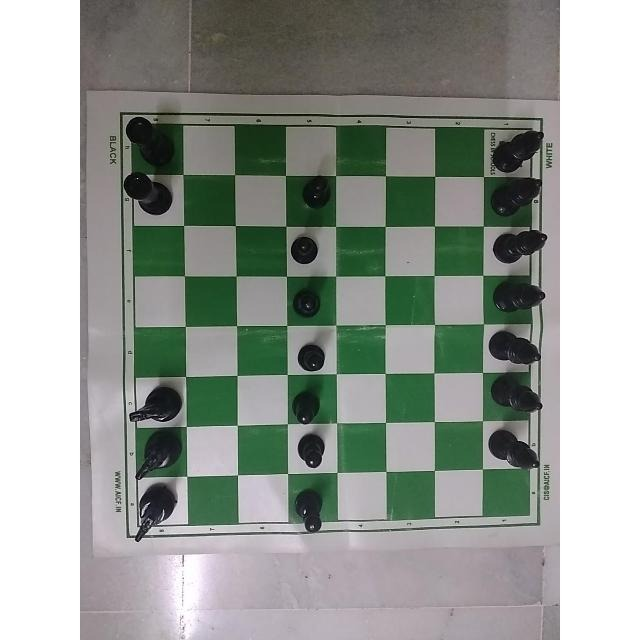black-bishop: (485, 218, 559, 272), (485, 271, 551, 322), (478, 426, 548, 473), (485, 377, 550, 423), (489, 172, 553, 216), (485, 328, 547, 368), (490, 125, 542, 169)
black-knight: (118, 481, 182, 549), (121, 424, 183, 480), (120, 380, 180, 424)
black-pawn: (294, 485, 337, 547), (283, 430, 337, 477), (282, 382, 329, 428), (286, 233, 330, 279), (287, 278, 327, 326), (298, 172, 336, 215), (294, 333, 329, 375)
black-rook: (125, 107, 187, 163), (124, 172, 182, 224)
